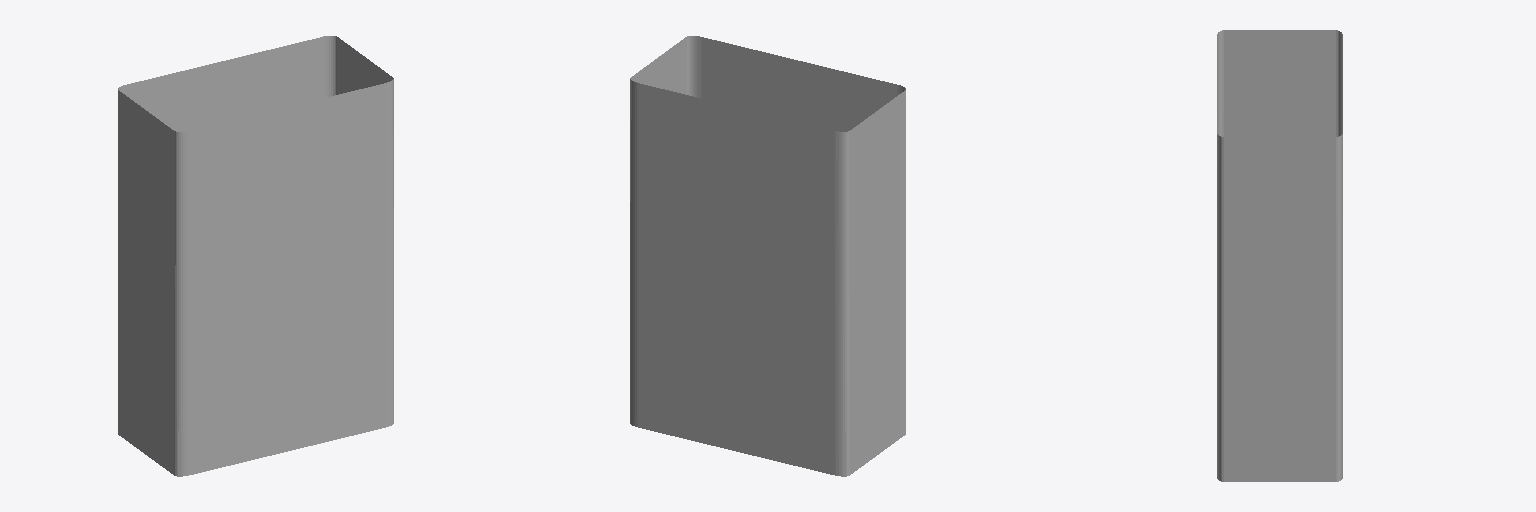
The model's file is 长条腰.obj.
3 renders of one model, left to right at view 1: azimuth 30°, elevation 25°; view 2: azimuth 150°, elevation 25°; view 3: azimuth 270°, elevation 25°, orthographic.
Visible parts, largest first — view 1: Cube; view 2: Cube; view 3: Cube.
Boxes of the visible parts, <box> form: Cube: <box>118,36,393,476</box>; Cube: <box>630,36,905,476</box>; Cube: <box>1217,30,1342,481</box>.
Bounding box in the file's own units: 2 × 3 × 1.